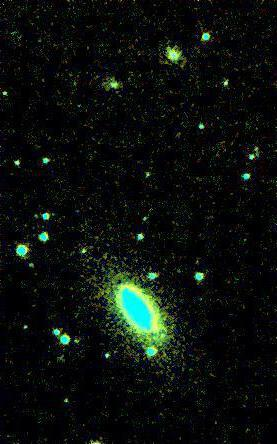star: (139, 189, 169, 219)
